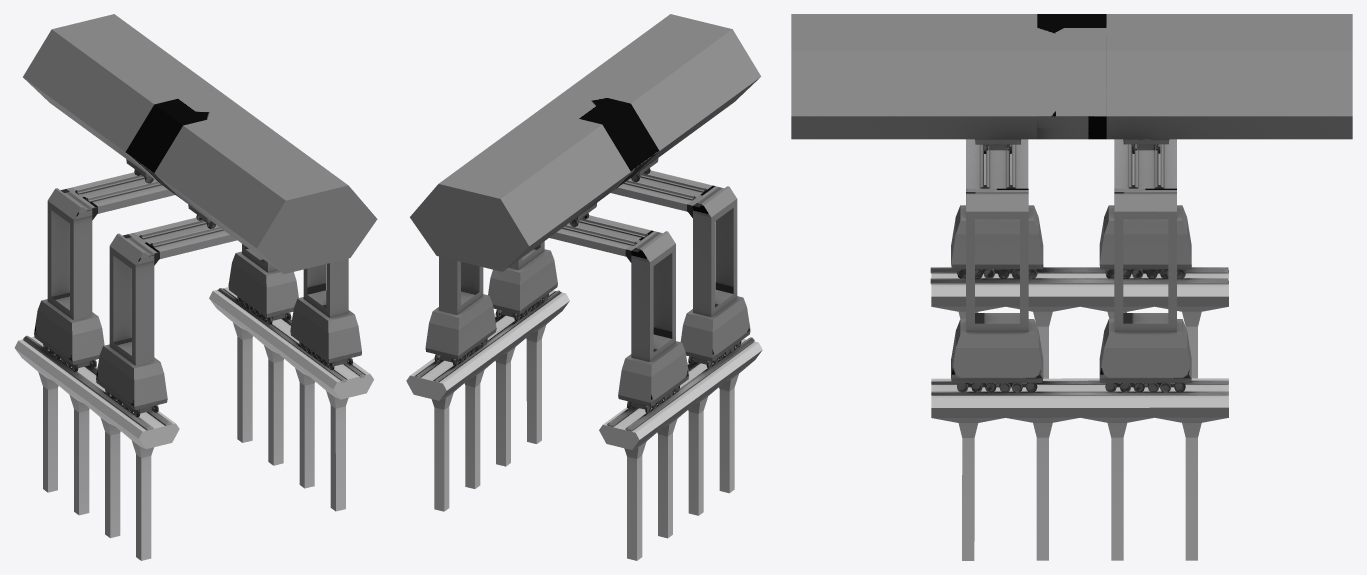
Rendered from crane.obj.
3 views of the same model, side by side, from view 1: azimuth 30°, elevation 25°; view 2: azimuth 150°, elevation 25°; view 3: azimuth 270°, elevation 25° (orthographic). The views are drawn at different scales.
Visible parts, largest first — view 1: craneArmF_craneArmFMesh, craneArmB_craneArmBMesh.001, craneFrameLF_craneFrameLFMesh, craneFrameLB, pillarBottomR_pillarBottomMesh.001, pillarBottomL_pillarBottomMesh.000, craneFrameRF_craneFrameRFMesh, pillarTopR_pillarTopMesh, pillarTopL_pillarTopMesh.001, craneArmMiddle_craneArmMiddleMesh.002, craneFrameRB_craneFrameRBMesh, craneSkywalkB_craneSkywalkBMesh (+7 smaller); view 2: craneArmB_craneArmBMesh.001, craneArmF_craneArmFMesh, craneFrameLB, craneFrameLF_craneFrameLFMesh, pillarBottomL_pillarBottomMesh.000, pillarBottomR_pillarBottomMesh.001, craneFrameRB_craneFrameRBMesh, pillarTopR_pillarTopMesh, pillarTopL_pillarTopMesh.001, craneArmMiddle_craneArmMiddleMesh.002, craneFrameRF_craneFrameRFMesh, craneSkywalkB_craneSkywalkBMesh (+7 smaller); view 3: craneArmB_craneArmBMesh.001, craneArmF_craneArmFMesh, pillarTopR_pillarTopMesh, craneFrameRB_craneFrameRBMesh, craneFrameRF_craneFrameRFMesh, craneArmMiddle_craneArmMiddleMesh.002, pillarTopL_pillarTopMesh.001, pillarBottomR_pillarBottomMesh.001, craneFrameLB, craneFrameLF_craneFrameLFMesh, craneSkywalkB_craneSkywalkBMesh, craneSkywalkF_craneSkywalkFMesh (+7 smaller).
Boxes of the visible parts, x1=… form: craneArmF_craneArmFMesh: x1=154, y1=110, x2=377, y2=273; craneArmB_craneArmBMesh.001: x1=23, y1=14, x2=216, y2=176; craneFrameLF_craneFrameLFMesh: x1=96, y1=233, x2=167, y2=406; craneFrameLB: x1=34, y1=187, x2=104, y2=361; pillarBottomR_pillarBottomMesh.001: x1=237, y1=337, x2=345, y2=511; pillarBottomL_pillarBottomMesh.000: x1=43, y1=386, x2=151, y2=560; craneFrameRF_craneFrameRFMesh: x1=290, y1=258, x2=361, y2=359; pillarTopR_pillarTopMesh: x1=209, y1=287, x2=373, y2=408; pillarTopL_pillarTopMesh.001: x1=14, y1=337, x2=179, y2=457; craneArmMiddle_craneArmMiddleMesh.002: x1=125, y1=89, x2=245, y2=198; craneFrameRB_craneFrameRBMesh: x1=228, y1=244, x2=298, y2=313; craneSkywalkB_craneSkywalkBMesh: x1=72, y1=172, x2=174, y2=213; craneArmB_craneArmBMesh.001: x1=410, y1=109, x2=630, y2=271; craneArmF_craneArmFMesh: x1=569, y1=14, x2=760, y2=175; craneFrameLB: x1=618, y1=230, x2=688, y2=402; craneFrameLF_craneFrameLFMesh: x1=680, y1=185, x2=750, y2=357; pillarBottomL_pillarBottomMesh.000: x1=627, y1=388, x2=734, y2=560; pillarBottomR_pillarBottomMesh.001: x1=434, y1=339, x2=541, y2=511; craneFrameRB_craneFrameRBMesh: x1=425, y1=256, x2=496, y2=355; pillarTopR_pillarTopMesh: x1=406, y1=290, x2=569, y2=409; pillarTopL_pillarTopMesh.001: x1=599, y1=339, x2=762, y2=458; craneArmMiddle_craneArmMiddleMesh.002: x1=540, y1=88, x2=659, y2=196; craneFrameRF_craneFrameRFMesh: x1=488, y1=241, x2=557, y2=310; craneSkywalkB_craneSkywalkBMesh: x1=549, y1=215, x2=651, y2=256; craneArmB_craneArmBMesh.001: x1=1106, y1=14, x2=1352, y2=139; craneArmF_craneArmFMesh: x1=791, y1=14, x2=1037, y2=139; pillarTopR_pillarTopMesh: x1=931, y1=378, x2=1228, y2=437; craneFrameRB_craneFrameRBMesh: x1=1099, y1=188, x2=1191, y2=378; craneFrameRF_craneFrameRFMesh: x1=951, y1=188, x2=1043, y2=378; craneArmMiddle_craneArmMiddleMesh.002: x1=1037, y1=14, x2=1106, y2=139; pillarTopL_pillarTopMesh.001: x1=931, y1=267, x2=1228, y2=326; pillarBottomR_pillarBottomMesh.001: x1=962, y1=437, x2=1197, y2=560; craneFrameLB: x1=1099, y1=205, x2=1191, y2=264; craneFrameLF_craneFrameLFMesh: x1=951, y1=205, x2=1043, y2=264; craneSkywalkB_craneSkywalkBMesh: x1=1114, y1=139, x2=1176, y2=188; craneSkywalkF_craneSkywalkFMesh: x1=966, y1=139, x2=1028, y2=188.
Size of the model in its own units: 14.15 by 22.65 by 24.37.
